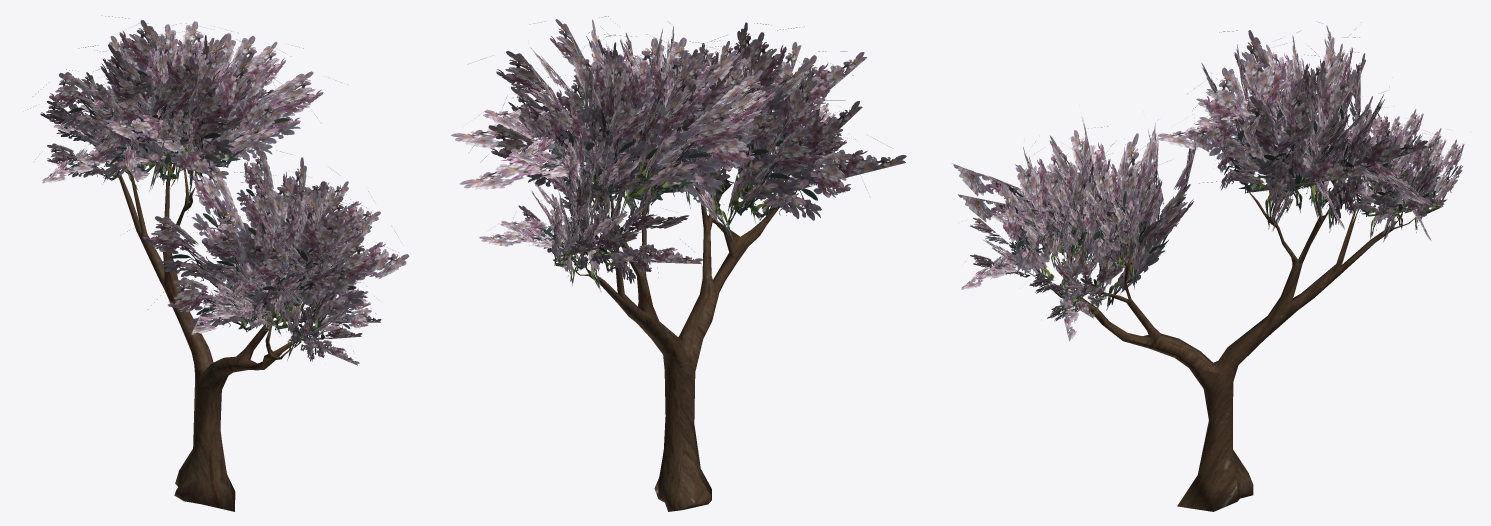
The model's file is Tree_Cherry_02.fbx.
The picture shows the model from 3 angles, left to right: view 1: azimuth 30°, elevation 25°; view 2: azimuth 150°, elevation 25°; view 3: azimuth 270°, elevation 25°; orthographic projection. The views are drawn at different scales.
Parts seen in each view (by area): view 1: Leaves_4.010, Tree_01; view 2: Leaves_4.010, Tree_01; view 3: Leaves_4.010, Tree_01.
Part boxes in pixels (left/top/right/bottom): Leaves_4.010: left=27, top=16, right=409, bottom=365; Tree_01: left=115, top=163, right=321, bottom=511; Leaves_4.010: left=451, top=16, right=906, bottom=292; Tree_01: left=571, top=170, right=787, bottom=511; Leaves_4.010: left=951, top=22, right=1464, bottom=341; Tree_01: left=1047, top=182, right=1414, bottom=511.
Size of the model in its own units: 360 by 520 by 542.
